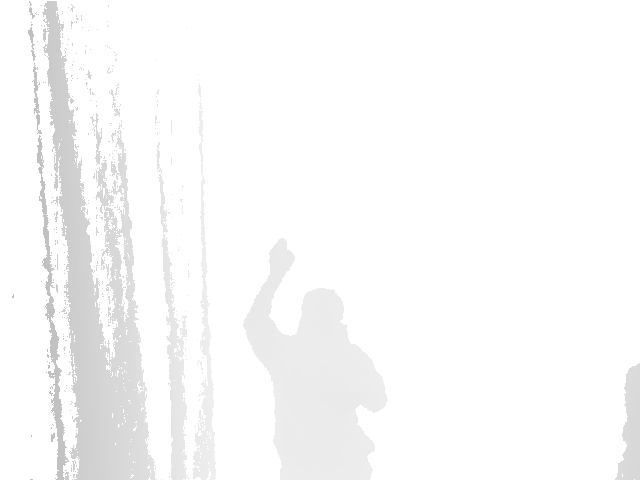hand: (268, 239, 295, 279)
head: (295, 288, 348, 345)
person: (240, 239, 388, 480)
